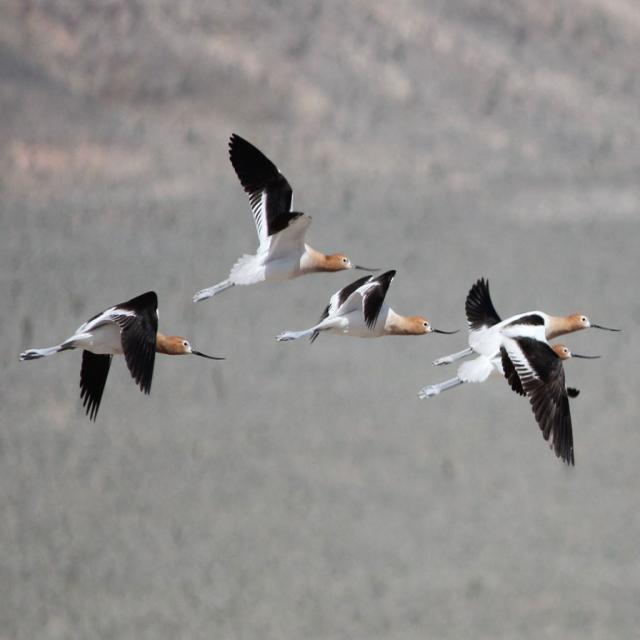bird: (420, 268, 578, 474), (26, 291, 222, 424), (215, 128, 314, 303), (278, 268, 428, 350), (514, 336, 601, 475)
